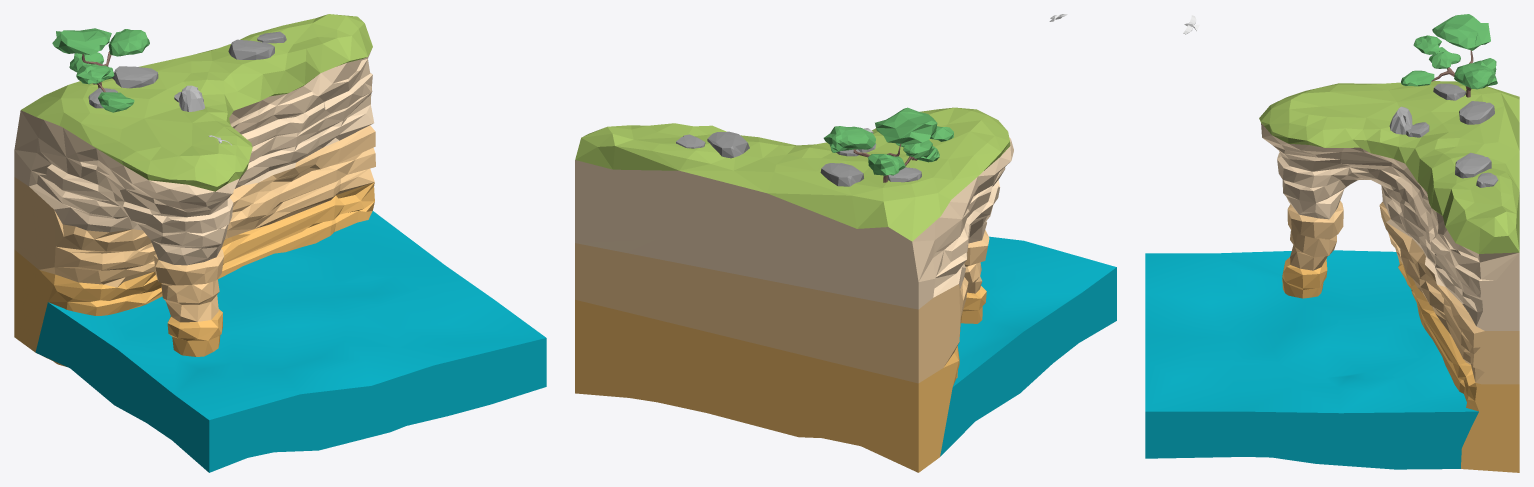
Rendered from territory.gltf.
3 views of the same model, side by side, from view 1: azimuth 30°, elevation 25°; view 2: azimuth 150°, elevation 25°; view 3: azimuth 270°, elevation 25° (orthographic). The views are drawn at different scales.
Visible parts, largest first — view 1: land_92008, land_92010, land_92012, land_92002, land_92015, land_92005; view 2: land_92008, land_92010, land_92012, land_92015, land_92002; view 3: land_92010, land_92008, land_92012, land_92015, land_92002, land_92005, land_92003.
Boxes of the visible parts, bbox=[...] form: land_92008: bbox=[14, 14, 375, 366]; land_92010: bbox=[35, 211, 546, 472]; land_92012: bbox=[52, 28, 149, 112]; land_92002: bbox=[112, 66, 158, 88]; land_92015: bbox=[228, 39, 274, 59]; land_92005: bbox=[179, 85, 204, 111]; land_92008: bbox=[575, 107, 1013, 472]; land_92010: bbox=[940, 236, 1116, 456]; land_92012: bbox=[823, 107, 953, 182]; land_92015: bbox=[707, 131, 749, 158]; land_92002: bbox=[820, 163, 863, 186]; land_92010: bbox=[1145, 250, 1478, 469]; land_92008: bbox=[1259, 81, 1519, 472]; land_92012: bbox=[1401, 14, 1497, 97]; land_92015: bbox=[1455, 152, 1491, 178]; land_92002: bbox=[1459, 101, 1494, 124]; land_92005: bbox=[1389, 106, 1412, 134]; land_92003: bbox=[1433, 83, 1465, 100].
Bounding box in the file's own units: 15 × 14 × 15.
Materials: 2 (2 with a texture image).
